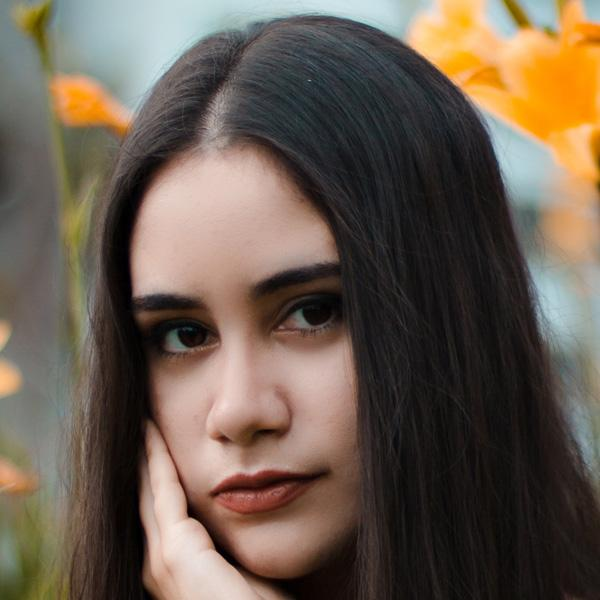Eyes: (268, 284, 354, 345), (149, 309, 226, 367)
